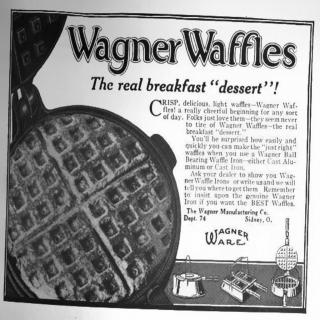Waffle: (8, 115, 173, 301)
